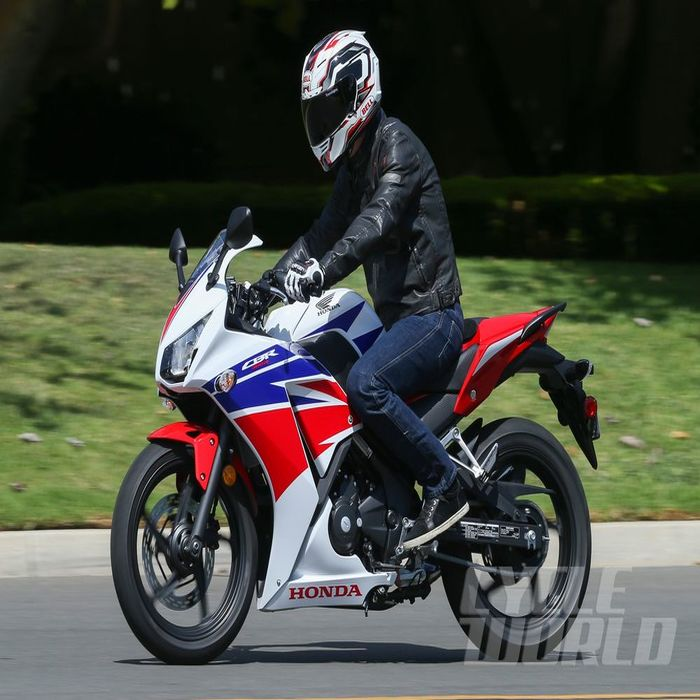h: (287, 23, 387, 178)
